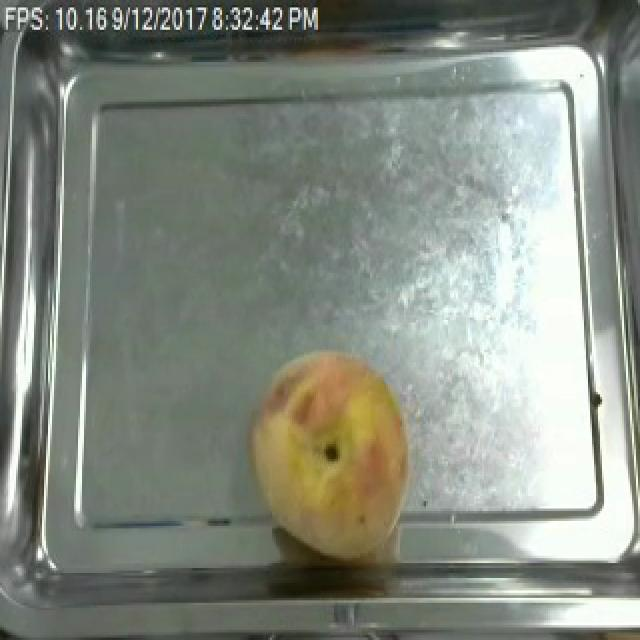Fruit: (236, 337, 420, 563)
